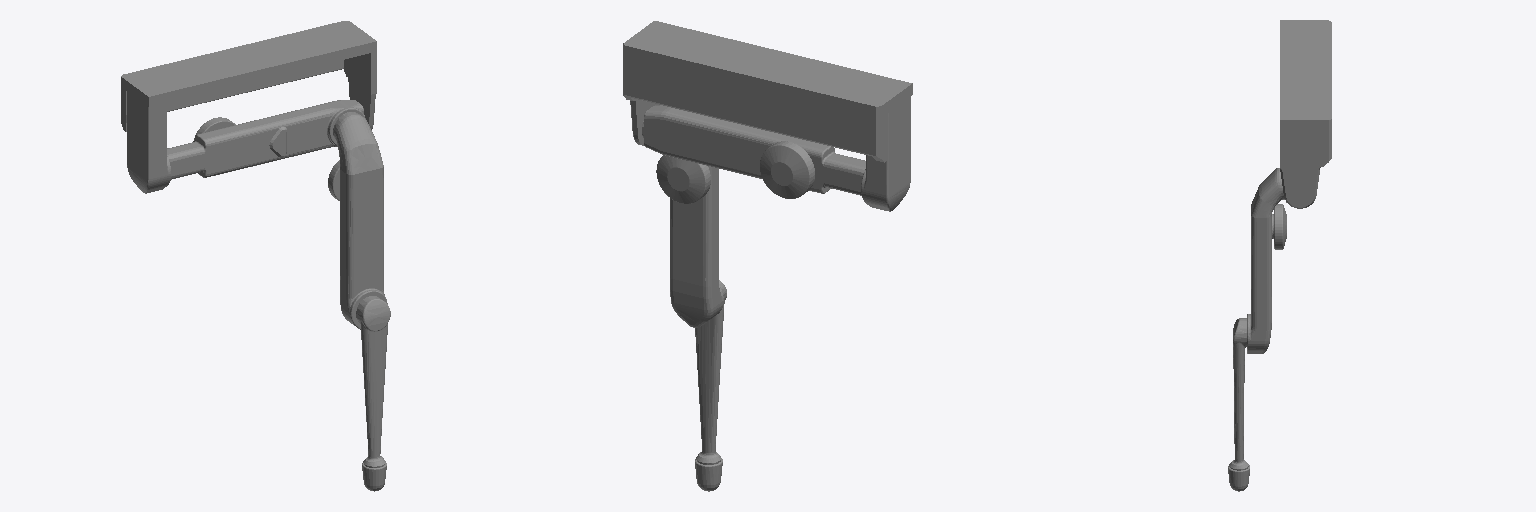
The robot description file, URDF, robot "fingeredu":
<?xml version="1.0" ?>
<!-- =================================================================================== -->
<!-- |    This document was autogenerated by xacro from robot_properties_fingers/xacro/edu/fingeredu.urdf.xacro | -->
<!-- |    EDITING THIS FILE BY HAND IS NOT RECOMMENDED                                 | -->
<!-- =================================================================================== -->
<robot name="fingeredu">
  <!--
    Frames are defined such that they all align with the base frame when all
    joints are at position zero.

    In zero-configuration the origins of all joints are in one line.

    In zero-configuration the origin of the base link is exactly above the
    finger tip which should make it easy to place the finger in the world.
    -->
  <!--
    Frames are defined such that they all align with the base frame when all
    joints are at position zero.

    In zero-configuration the origins of all joints are in one line.
    -->
  <material name="fingeredu_material">
    <color rgba="0.6 0.6 0.6 1.0"/>
  </material>
  <!--
        Fixed links for the finger base (parts where the upper link is mounted).
        -->
  <link name="finger_base_link">
    <visual>
      <origin rpy="0 0 0" xyz="-0.17995 0 0"/>
      <geometry>
        <mesh filename="package://robot_properties_fingers/meshes/edu/base_back.stl" scale="1 1 1"/>
      </geometry>
      <material name="fingeredu_material"/>
    </visual>
    <collision>
      <origin rpy="0 0 0" xyz="-0.17995 0 0"/>
      <geometry>
        <mesh filename="package://robot_properties_fingers/meshes/edu/base_back.stl" scale="1 1 1"/>
      </geometry>
    </collision>
    <visual>
      <origin rpy="0 0 0" xyz="0.025500000000000002 0 0"/>
      <geometry>
        <mesh filename="package://robot_properties_fingers/meshes/edu/base_front.stl" scale="1 1 1"/>
      </geometry>
      <material name="fingeredu_material"/>
    </visual>
    <collision>
      <origin rpy="0 0 0" xyz="0.025500000000000002 0 0"/>
      <geometry>
        <mesh filename="package://robot_properties_fingers/meshes/edu/base_front.stl" scale="1 1 1"/>
      </geometry>
    </collision>
    <visual>
      <origin rpy="0 0 0" xyz="0.025500000000000002 0.02 0.08"/>
      <geometry>
        <mesh filename="package://robot_properties_fingers/meshes/edu/base_side_left.stl" scale="1 1 1"/>
      </geometry>
      <material name="fingeredu_material"/>
    </visual>
    <collision>
      <origin rpy="0 0 0" xyz="0.025500000000000002 0.02 0.08"/>
      <geometry>
        <mesh filename="package://robot_properties_fingers/meshes/edu/base_side_left.stl" scale="1 1 1"/>
      </geometry>
    </collision>
    <!-- Disable this part.  It is not very relevant for collisions but
                 would cause trouble in pybullet due to its concavity.
            <xacro:add_geometry
                rpy="0 0 0"
                xyz="${offset_x_base_to_front} -0.02 ${offset_z_base_to_top}"
                mesh_file="${mesh_dir}/base_side_right.stl"
                material="${material}" />
            -->
    <visual>
      <origin rpy="0 0 0" xyz="0.025500000000000002 0 0.08"/>
      <geometry>
        <mesh filename="package://robot_properties_fingers/meshes/edu/base_top.stl" scale="1 1 1"/>
      </geometry>
      <material name="fingeredu_material"/>
    </visual>
    <collision>
      <origin rpy="0 0 0" xyz="0.025500000000000002 0 0.08"/>
      <geometry>
        <mesh filename="package://robot_properties_fingers/meshes/edu/base_top.stl" scale="1 1 1"/>
      </geometry>
    </collision>
    <inertial>
      <origin rpy="0 0 0" xyz="-0.1 0 0.4"/>
      <mass value="1"/>
      <inertia ixx="0.060833333333333336" ixy="0" ixz="0" iyy="0.05666666666666668" iyz="0" izz="0.010833333333333334"/>
    </inertial>
  </link>
  <!-- The movable links (upper, middle and lower) of the finger. -->
  <!-- FIXME inertias are not correct! -->
  <link name="finger_upper_link">
    <visual>
      <origin rpy="0 0 0" xyz="0.0195 0 0"/>
      <geometry>
        <mesh filename="package://robot_properties_fingers/meshes/edu/upper_link.stl" scale="1 1 1"/>
      </geometry>
      <material name="fingeredu_material"/>
    </visual>
    <collision>
      <origin rpy="0 0 0" xyz="0.0195 0 0"/>
      <geometry>
        <mesh filename="package://robot_properties_fingers/meshes/edu/upper_link.stl" scale="1 1 1"/>
      </geometry>
    </collision>
    <inertial>
      <!-- Note: This uses the values from the middle link, assuming
                     that it is similar enough. -->
      <!-- CoM is only estimated based -->
      <origin rpy="0 0 0" xyz="-0.079 0 0"/>
      <mass value="0.14854"/>
      <inertia ixx="0.00003" ixy="0.00005" ixz="0.00000" iyy="0.00041" iyz="0.00000" izz="0.00041"/>
    </inertial>
  </link>
  <link name="finger_middle_link">
    <visual>
      <origin rpy="0 0 0" xyz="0 0 0"/>
      <geometry>
        <mesh filename="package://robot_properties_fingers/meshes/edu/middle_link.stl" scale="1 1 1"/>
      </geometry>
      <material name="fingeredu_material"/>
    </visual>
    <collision>
      <origin rpy="0 0 0" xyz="0 0 0"/>
      <geometry>
        <mesh filename="package://robot_properties_fingers/meshes/edu/middle_link.stl" scale="1 1 1"/>
      </geometry>
    </collision>
    <inertial>
      <origin rpy="0 0 0" xyz="0 -0.019 -0.079"/>
      <mass value="0.14854"/>
      <inertia ixx="0.00041" ixy="0.00000" ixz="0.00000" iyy="0.00041" iyz="0.00005" izz="0.00003"/>
    </inertial>
  </link>
  <link name="finger_lower_link">
    <visual>
      <origin rpy="0 0 0" xyz="0 0 0"/>
      <geometry>
        <mesh filename="package://robot_properties_fingers/meshes/edu/lower_link.stl" scale="1 1 1"/>
      </geometry>
      <material name="fingeredu_material"/>
    </visual>
    <collision>
      <origin rpy="0 0 0" xyz="0 0 0"/>
      <geometry>
        <mesh filename="package://robot_properties_fingers/meshes/edu/lower_link.stl" scale="1 1 1"/>
      </geometry>
    </collision>
    <!-- TODO: these are the interial values from the Solo lower leg
                 link which is similar but not exactly the same to the FingerEdu
                 lower link. -->
    <inertial>
      <origin rpy="0 0 0" xyz="0 -0.009 -0.089"/>
      <mass value="0.03070"/>
      <inertia ixx="0.00012" ixy="0.00000" ixz="0.00000" iyy="0.00012" iyz="0.00000" izz="0.00000"/>
    </inertial>
  </link>
  <!-- fixed link for finger tip -->
  <link name="finger_tip_link">
    <inertial>
      <origin rpy="0 0 0" xyz="0 0 0"/>
      <mass value="0.01"/>
      <inertia ixx="1.6666666666666668e-07" ixy="0" ixz="0" iyy="1.6666666666666668e-07" iyz="0" izz="1.6666666666666668e-07"/>
    </inertial>
  </link>
  <joint name="finger_lower_to_tip_joint" type="fixed">
    <parent link="finger_lower_link"/>
    <child link="finger_tip_link"/>
    <origin xyz="0 -0.008 -0.16"/>
  </joint>
  <!-- kinematics -->
  <joint name="finger_base_to_upper_joint" type="revolute">
    <parent link="finger_base_link"/>
    <child link="finger_upper_link"/>
    <limit effort="1000" lower="-1.5707963267948966" upper="1.5707963267948966" velocity="1000"/>
    <axis xyz="-1 0 0"/>
    <origin rpy="0 0 0" xyz="0 0 0"/>
  </joint>
  <joint name="finger_upper_to_middle_joint" type="revolute">
    <parent link="finger_upper_link"/>
    <child link="finger_middle_link"/>
    <limit effort="1000" lower="-1.5707963267948966" upper="1.5707963267948966" velocity="1000"/>
    <axis xyz="0 1 0"/>
    <origin rpy="0 0 0" xyz="0 -0.014 0"/>
  </joint>
  <joint name="finger_middle_to_lower_joint" type="revolute">
    <parent link="finger_middle_link"/>
    <child link="finger_lower_link"/>
    <limit effort="1000" lower="-3.141592653589793" upper="3.141592653589793" velocity="1000"/>
    <axis xyz="0 1 0"/>
    <origin rpy="0 0 0" xyz="0 -0.03745 -0.16"/>
  </joint>
  <!--
    Define the global base link and place the finger relative to it.
    -->
  <link name="base_link">
    <inertial>
      <origin rpy="0 0 0" xyz="0 0 0"/>
      <mass value="1"/>
      <inertia ixx="4.166666666666667e-06" ixy="0" ixz="0" iyy="4.166666666666667e-06" iyz="0" izz="4.166666666666667e-06"/>
    </inertial>
  </link>
  <joint name="base_to_finger" type="fixed">
    <parent link="base_link"/>
    <child link="finger_base_link"/>
    <origin xyz="0 0 0.283"/>
  </joint>
</robot>

--- Render facts (derived) ---
The picture shows the robot from 3 angles, left to right: view 1: azimuth 30°, elevation 25°; view 2: azimuth 150°, elevation 25°; view 3: azimuth 270°, elevation 25°; orthographic projection.
Model fingeredu with 6 links and 5 joints (3 revolute, 2 fixed), rooted at base_link, posed every joint at zero.
Links seen in each view (by area): view 1: finger_base_link, finger_middle_link, finger_upper_link, finger_lower_link; view 2: finger_base_link, finger_upper_link, finger_middle_link, finger_lower_link; view 3: finger_base_link, finger_middle_link, finger_lower_link.
Boxes of the visible links, x1=… form: finger_base_link: x1=121, y1=21, x2=376, y2=193; finger_middle_link: x1=328, y1=112, x2=387, y2=329; finger_upper_link: x1=167, y1=100, x2=365, y2=179; finger_lower_link: x1=356, y1=296, x2=390, y2=491; finger_base_link: x1=623, y1=21, x2=912, y2=211; finger_upper_link: x1=642, y1=105, x2=865, y2=198; finger_middle_link: x1=656, y1=155, x2=723, y2=327; finger_lower_link: x1=695, y1=280, x2=726, y2=491; finger_base_link: x1=1280, y1=20, x2=1331, y2=208; finger_middle_link: x1=1247, y1=168, x2=1286, y2=353; finger_lower_link: x1=1228, y1=318, x2=1249, y2=491.
Size in the robot's own frame: 0.2295 by 0.1013 by 0.4095 metres.
Meshes: 7 distinct files referenced, 7 mesh visuals loaded (7 binary STL).
